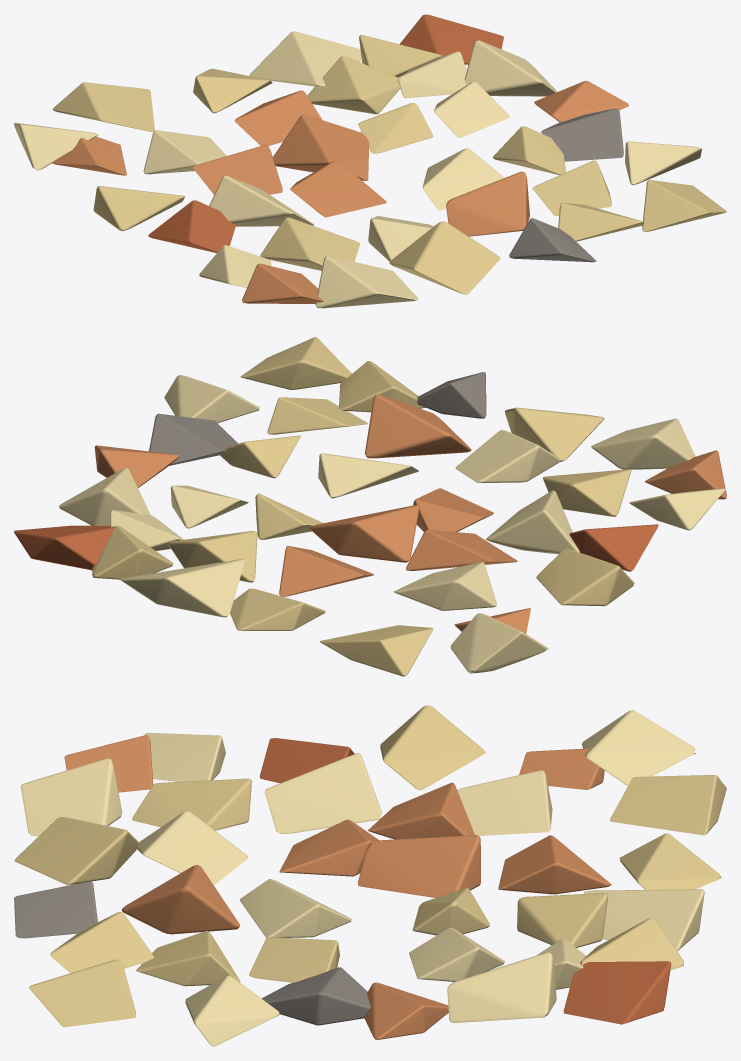
The model's file is minerai_sable_1.glb.
3 renders of one model, top to bottom at view 1: azimuth 30°, elevation 25°; view 2: azimuth 150°, elevation 25°; view 3: azimuth 270°, elevation 25°, orthographic. The views are drawn at different scales.
Visible parts, largest first — view 1: sable_sable.004, sable_sable_clair.004, sable_gres_clair.004, sable_gres.004, sable_pierre_claire.004; view 2: sable_sable_clair.004, sable_sable.004, sable_gres_clair.004, sable_gres.004, sable_pierre_claire.004; view 3: sable_sable_clair.004, sable_sable.004, sable_gres_clair.004, sable_gres.004, sable_pierre_claire.004.
Part boxes in pixels (x1,y1,x2,y2): sable_sable.004: (52, 35, 726, 294); sable_sable_clair.004: (14, 31, 701, 308); sable_gres_clair.004: (52, 80, 629, 303); sable_gres.004: (148, 14, 503, 253); sable_pierre_claire.004: (509, 108, 623, 262); sable_sable_clair.004: (59, 375, 725, 673); sable_sable.004: (92, 337, 634, 676); sable_gres_clair.004: (94, 394, 726, 633); sable_gres.004: (14, 524, 658, 571); sable_pierre_claire.004: (149, 372, 486, 465); sable_sable_clair.004: (20, 710, 704, 1046); sable_sable.004: (14, 705, 726, 1027); sable_gres_clair.004: (64, 735, 611, 1040); sable_gres.004: (259, 738, 671, 1024); sable_pierre_claire.004: (14, 881, 370, 1025).
Bounding box in the file's own units: 0.495 × 0.0377 × 0.4897.
